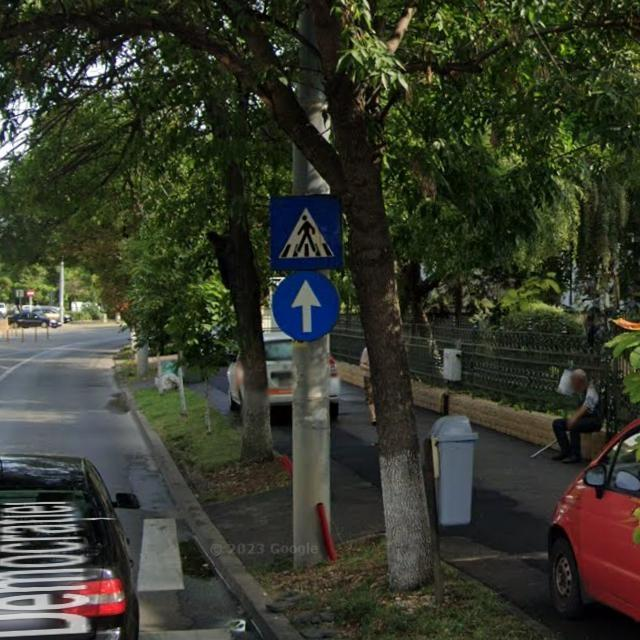info_crosswalk: (270, 194, 344, 271)
